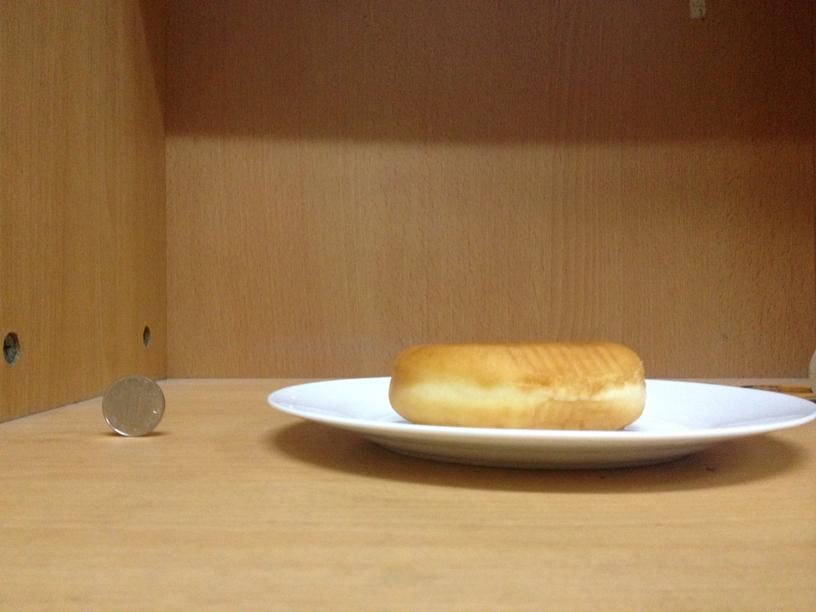coin: (98, 373, 164, 438)
doughnut: (388, 336, 646, 432)
